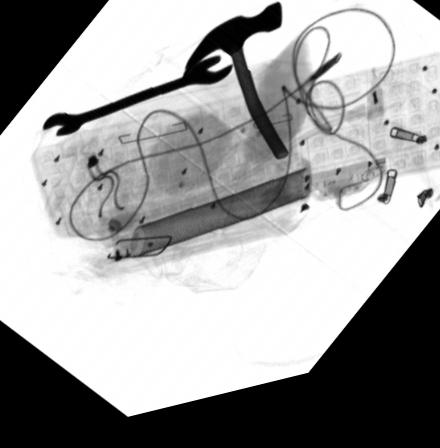Hammer: (182, 12, 289, 172)
Wrench: (41, 64, 231, 137)
